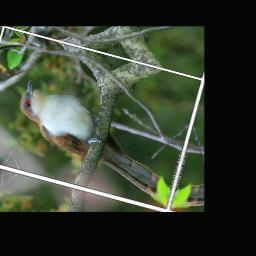Cuckoo: (4, 78, 189, 204)
